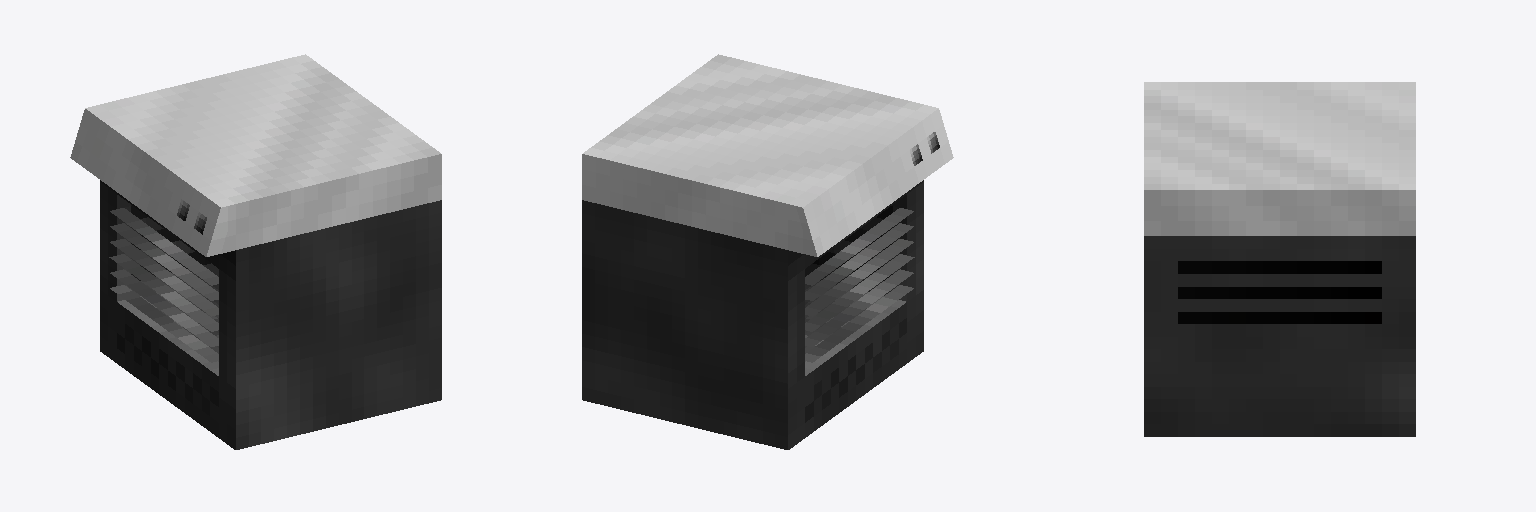
3 views of the same model, side by side, from view 1: azimuth 30°, elevation 25°; view 2: azimuth 150°, elevation 25°; view 3: azimuth 270°, elevation 25° (orthographic).
Parts seen in each view (by area): view 1: furnace; view 2: furnace; view 3: furnace.
Part boxes in pixels (x1,y1,x2,y2): furnace: (70, 54, 441, 449); furnace: (582, 54, 953, 449); furnace: (1144, 82, 1415, 436).
Size of the model in its own units: 1 by 1 by 1.
1 materials, 1 textured.